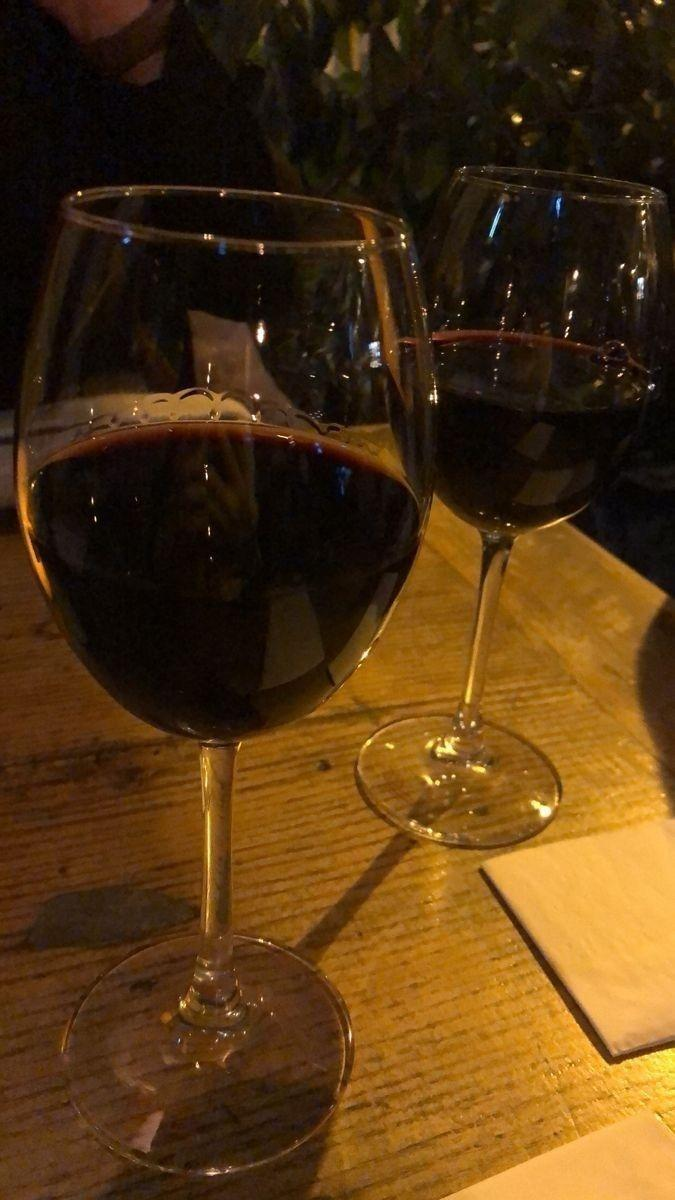glass-wine: (9, 178, 437, 1149), (347, 162, 671, 842)
